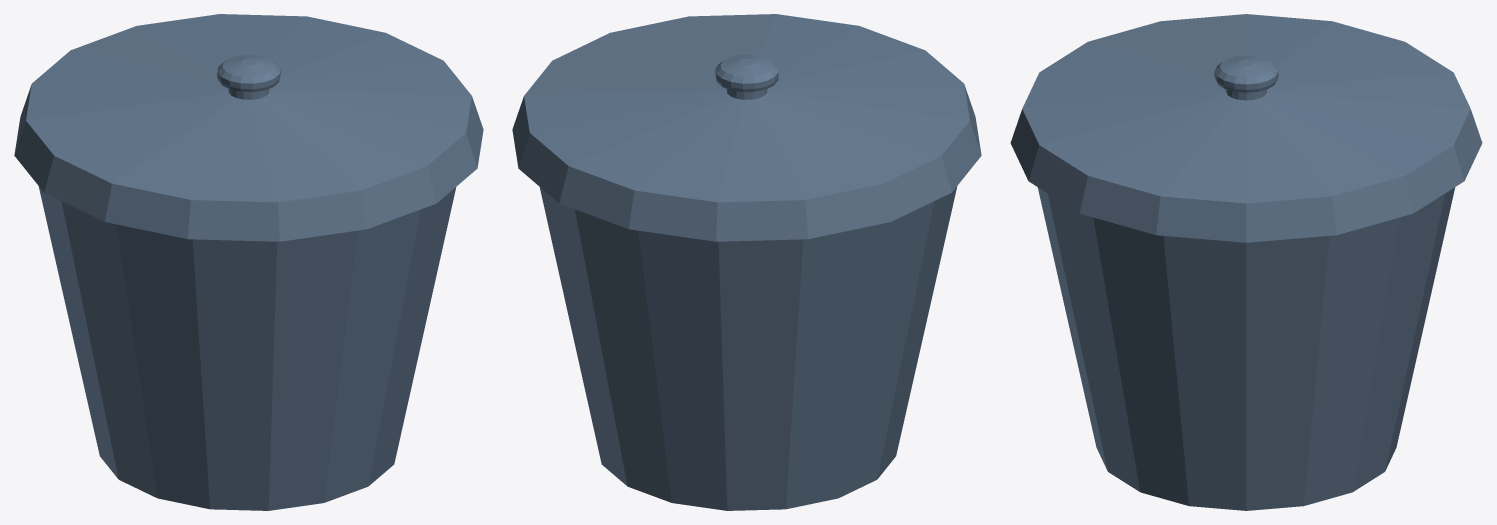
File: Trashcan_01.fbx
3 renders of one model, left to right at view 1: azimuth 30°, elevation 25°; view 2: azimuth 150°, elevation 25°; view 3: azimuth 270°, elevation 25°, orthographic.
Visible parts, largest first — view 1: Cylinder; view 2: Cylinder; view 3: Cylinder.
Part boxes in pixels (x1=…): Cylinder: x1=14, y1=14, x2=483, y2=510; Cylinder: x1=512, y1=14, x2=981, y2=510; Cylinder: x1=1010, y1=14, x2=1482, y2=510.
Size of the model in its own units: 183 by 165 by 183.
